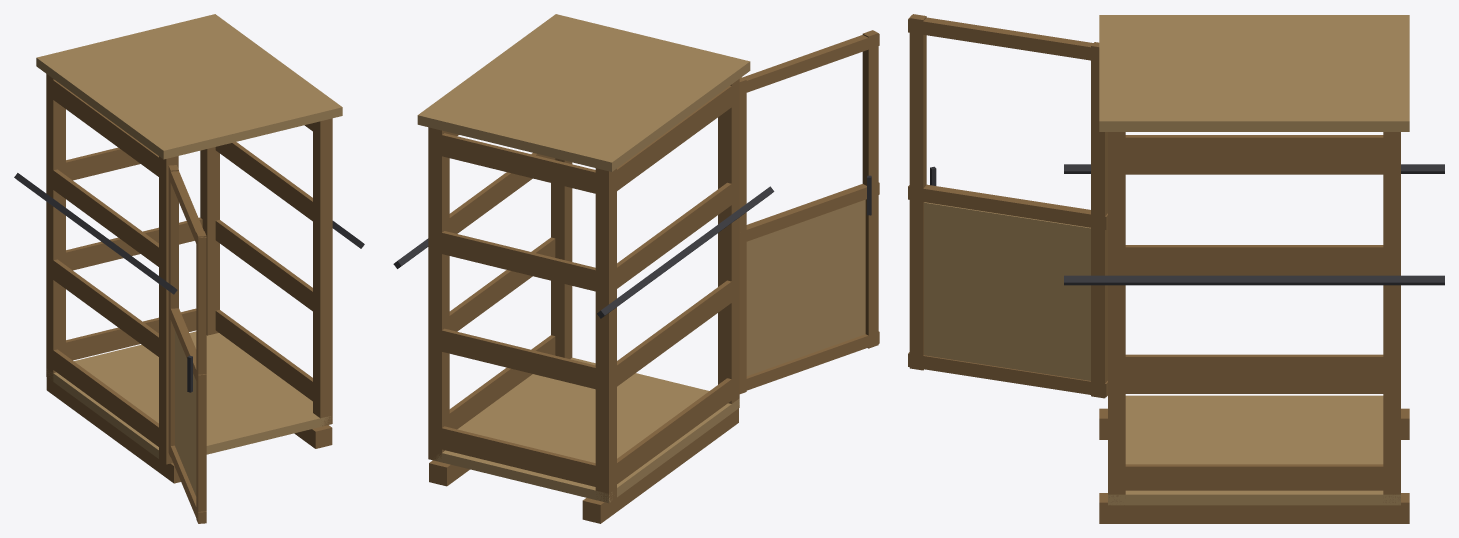
Rendered from Prop_Release_Crate_Open_LOD1.glb.
3 renders of one model, left to right at view 1: azimuth 30°, elevation 25°; view 2: azimuth 150°, elevation 25°; view 3: azimuth 270°, elevation 25°, orthographic. The views are drawn at different scales.
Visible parts, largest first — view 1: Prop_Release_Crate_Open, Prop_Release_Crate_Open_Door; view 2: Prop_Release_Crate_Open, Prop_Release_Crate_Open_Door; view 3: Prop_Release_Crate_Open, Prop_Release_Crate_Open_Door.
Part boxes in pixels (left/top/right/bottom): Prop_Release_Crate_Open: left=14, top=14, right=364, bottom=483; Prop_Release_Crate_Open_Door: left=168, top=165, right=206, bottom=523; Prop_Release_Crate_Open: left=393, top=14, right=774, bottom=523; Prop_Release_Crate_Open_Door: left=739, top=30, right=879, bottom=393; Prop_Release_Crate_Open: left=1064, top=15, right=1444, bottom=523; Prop_Release_Crate_Open_Door: left=908, top=14, right=1107, bottom=398.
Size of the model in its own units: 1.11 by 1.54 by 1.83.
